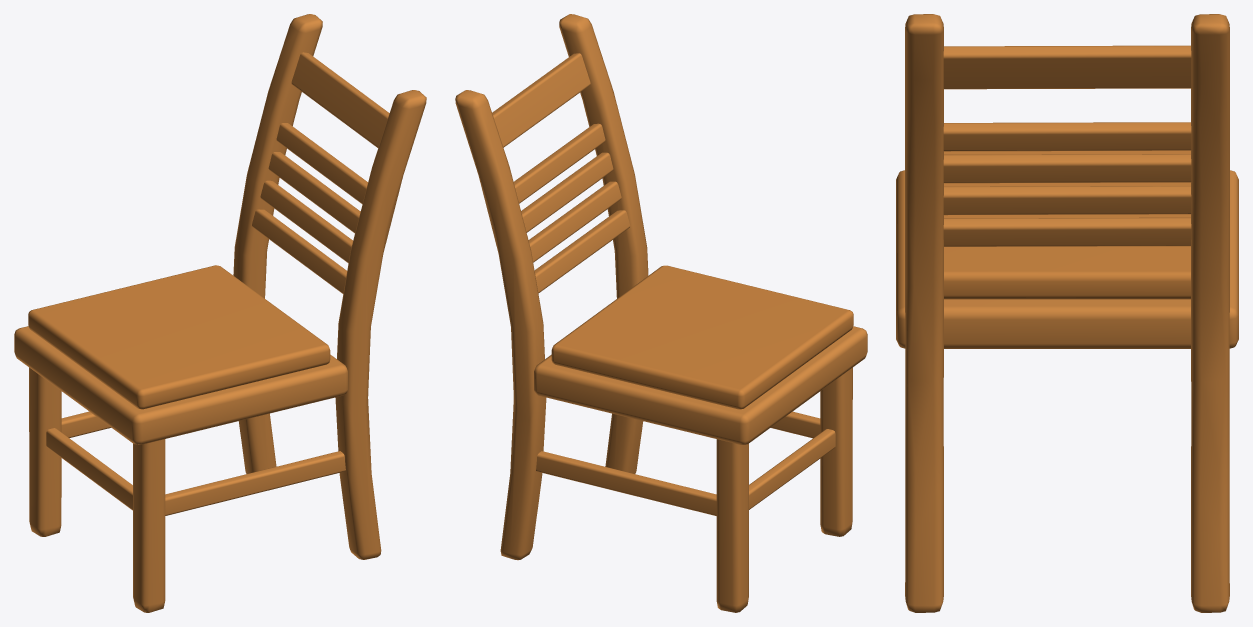
File: chair_01_yellow.fbx
The picture shows the model from 3 angles, left to right: view 1: azimuth 30°, elevation 25°; view 2: azimuth 150°, elevation 25°; view 3: azimuth 270°, elevation 25°; orthographic projection. The views are drawn at different scales.
Visible parts, largest first — view 1: chair_01_yellow; view 2: chair_01_yellow; view 3: chair_01_yellow.
Part boxes in pixels (<box>): chair_01_yellow: <box>14,14,426,612</box>; chair_01_yellow: <box>455,14,867,612</box>; chair_01_yellow: <box>896,14,1238,612</box>.
Size of the model in its own units: 73.08 by 106 by 53.
2 materials, 2 textured.
